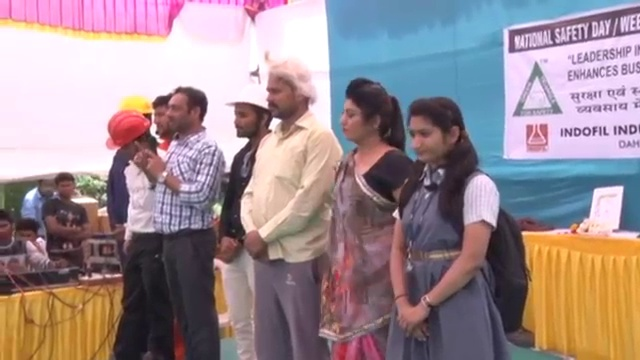helmet: (105, 110, 152, 151), (224, 81, 271, 111), (118, 93, 155, 118)
helmet_off: (404, 95, 464, 170), (337, 77, 397, 148), (257, 61, 321, 123), (164, 90, 208, 137), (150, 91, 178, 143), (14, 219, 39, 244), (54, 173, 76, 201), (0, 210, 14, 251), (36, 180, 53, 199)
helmet_on: (105, 110, 160, 163), (223, 81, 271, 141)
person: (389, 96, 522, 360), (239, 60, 343, 360), (322, 78, 416, 360), (132, 87, 225, 359), (97, 113, 179, 358), (214, 73, 273, 357), (42, 174, 90, 261), (0, 210, 48, 275), (20, 178, 54, 219)
